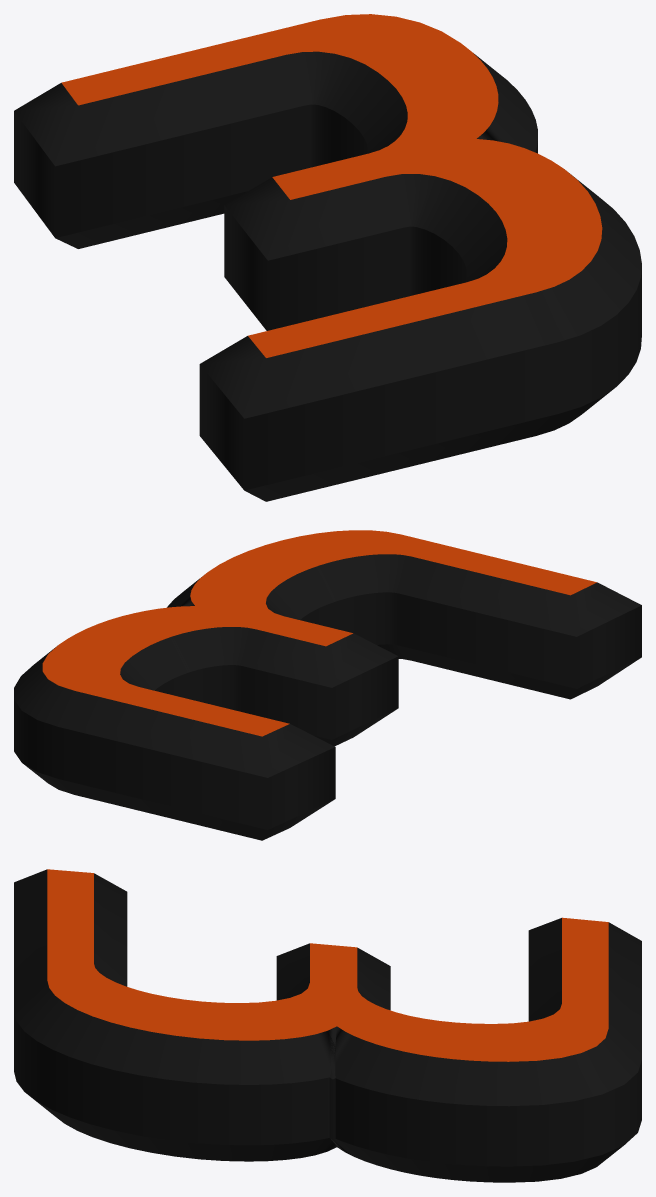
3 views of the same model, one above another, from view 1: azimuth 30°, elevation 25°; view 2: azimuth 150°, elevation 25°; view 3: azimuth 270°, elevation 25° (orthographic). The views are drawn at different scales.
Visible parts, largest first — view 1: Text; view 2: Text; view 3: Text.
Boxes of the visible parts, left/top/right/bottom form: Text: left=14, top=14, right=641, bottom=501; Text: left=14, top=530, right=641, bottom=840; Text: left=14, top=869, right=641, bottom=1182.
Bounding box in the file's own units: 0.6352 × 0.16 × 0.7533.
